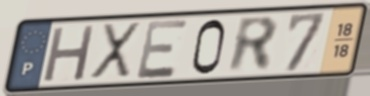0: (191, 17, 227, 77)
7: (284, 10, 328, 74)
E: (134, 17, 191, 81)
H: (40, 23, 99, 85)
R: (226, 15, 280, 76)
X: (87, 20, 143, 81)
